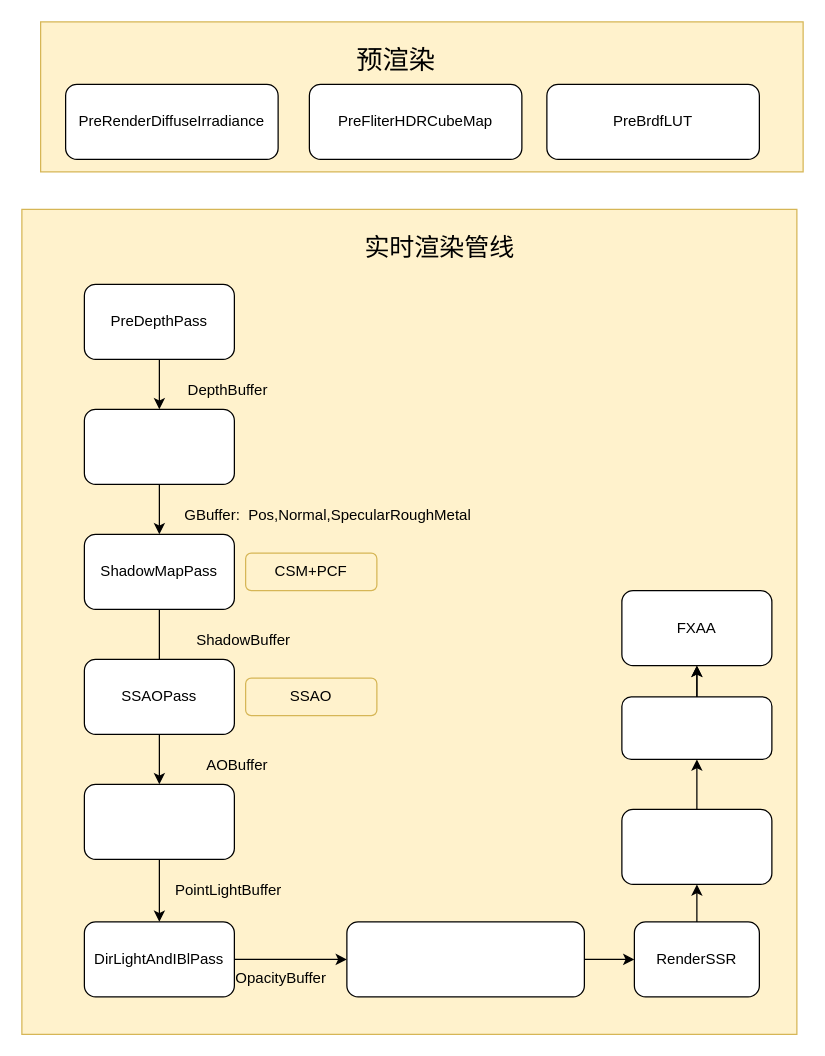
This 825x1056 diagram has some shape labels left out. Each missing label, with the box of its shape:
ACES ToneMap: (621, 808, 772, 884)
BasePass: (83, 408, 234, 484)
GammaCorrect: (621, 696, 772, 759)
RenderGeneralTransparent: (346, 921, 584, 997)
TiledLightShading: (83, 783, 234, 859)
